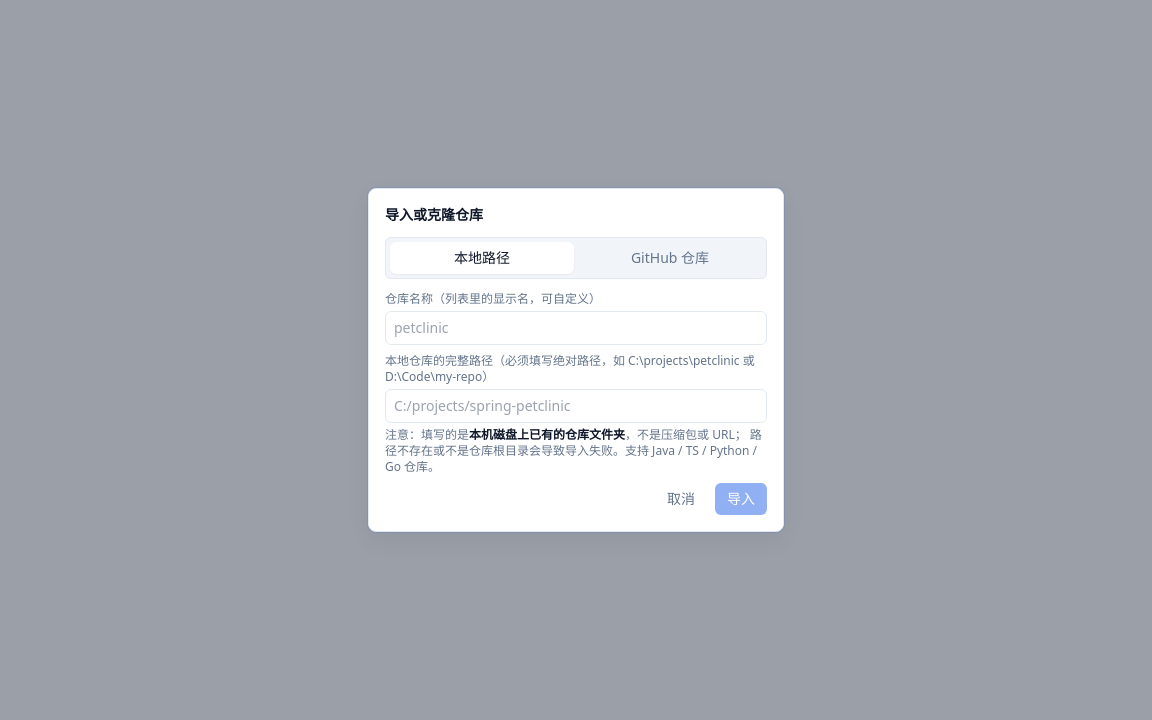
Test: ImportRepoModal — repository ingestion hub (Issue 19) › shows the resolved absolute path and the relative-resolution note (v1.4 ticket 03)
Type "services/control-plane" into the field with test id "import-path" at (576, 406), box [385,389,767,423]
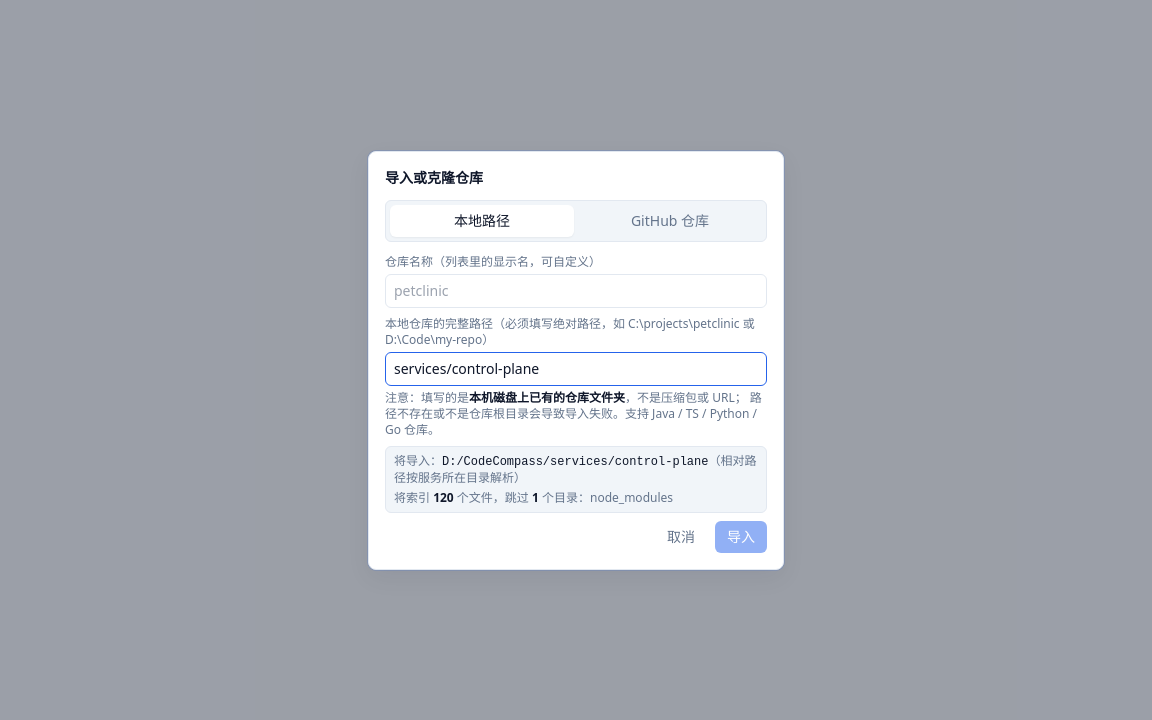
Expected: the element with test id "import-preview-resolved" shows "将导入：D:/CodeCompass/services/control-plane", [394,452,758,486]
Expected: the element with test id "import-preview-resolved" shows "相对路径按服务所在目录解析", [394,452,756,486]
